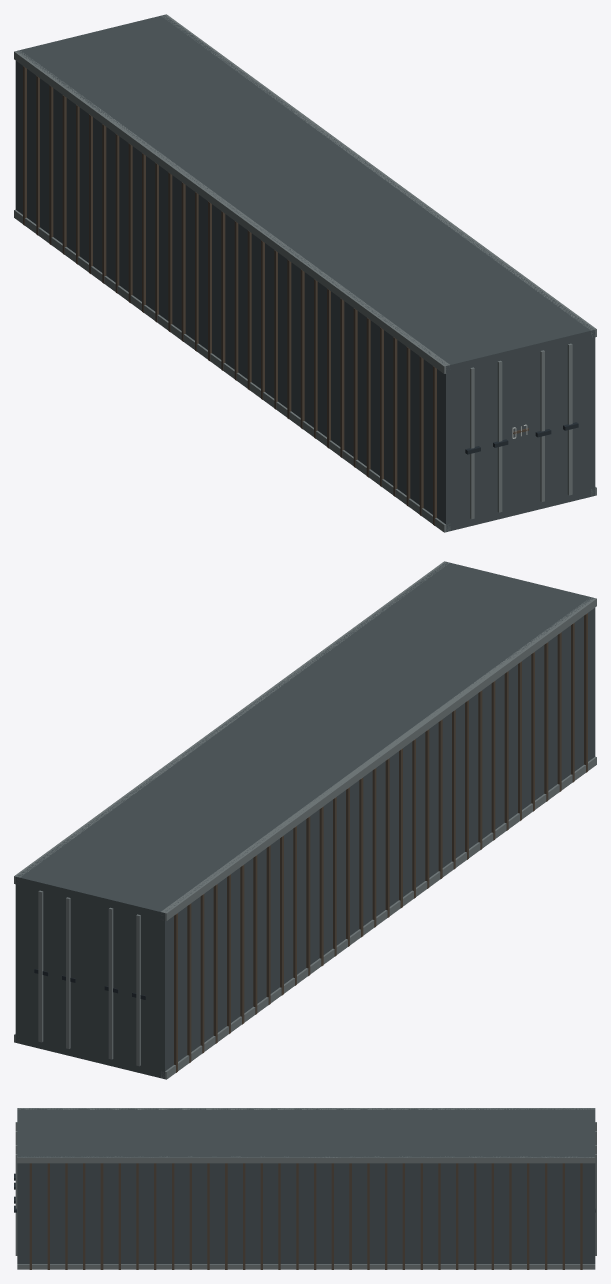
The model's file is container-1.glb.
3 views of the same model, one above another, from view 1: azimuth 30°, elevation 25°; view 2: azimuth 150°, elevation 25°; view 3: azimuth 270°, elevation 25° (orthographic). The views are drawn at different scales.
Parts seen in each view (by area): view 1: container/0/KR-230-1; view 2: container/0/KR-230-1; view 3: container/0/KR-230-1.
Part boxes in pixels (x1,y1,x2,y2): container/0/KR-230-1: (14, 14, 596, 532); container/0/KR-230-1: (14, 561, 596, 1079); container/0/KR-230-1: (14, 1108, 596, 1269).
Bounding box in the file's own units: 2.51 × 2.6 × 12.31.
